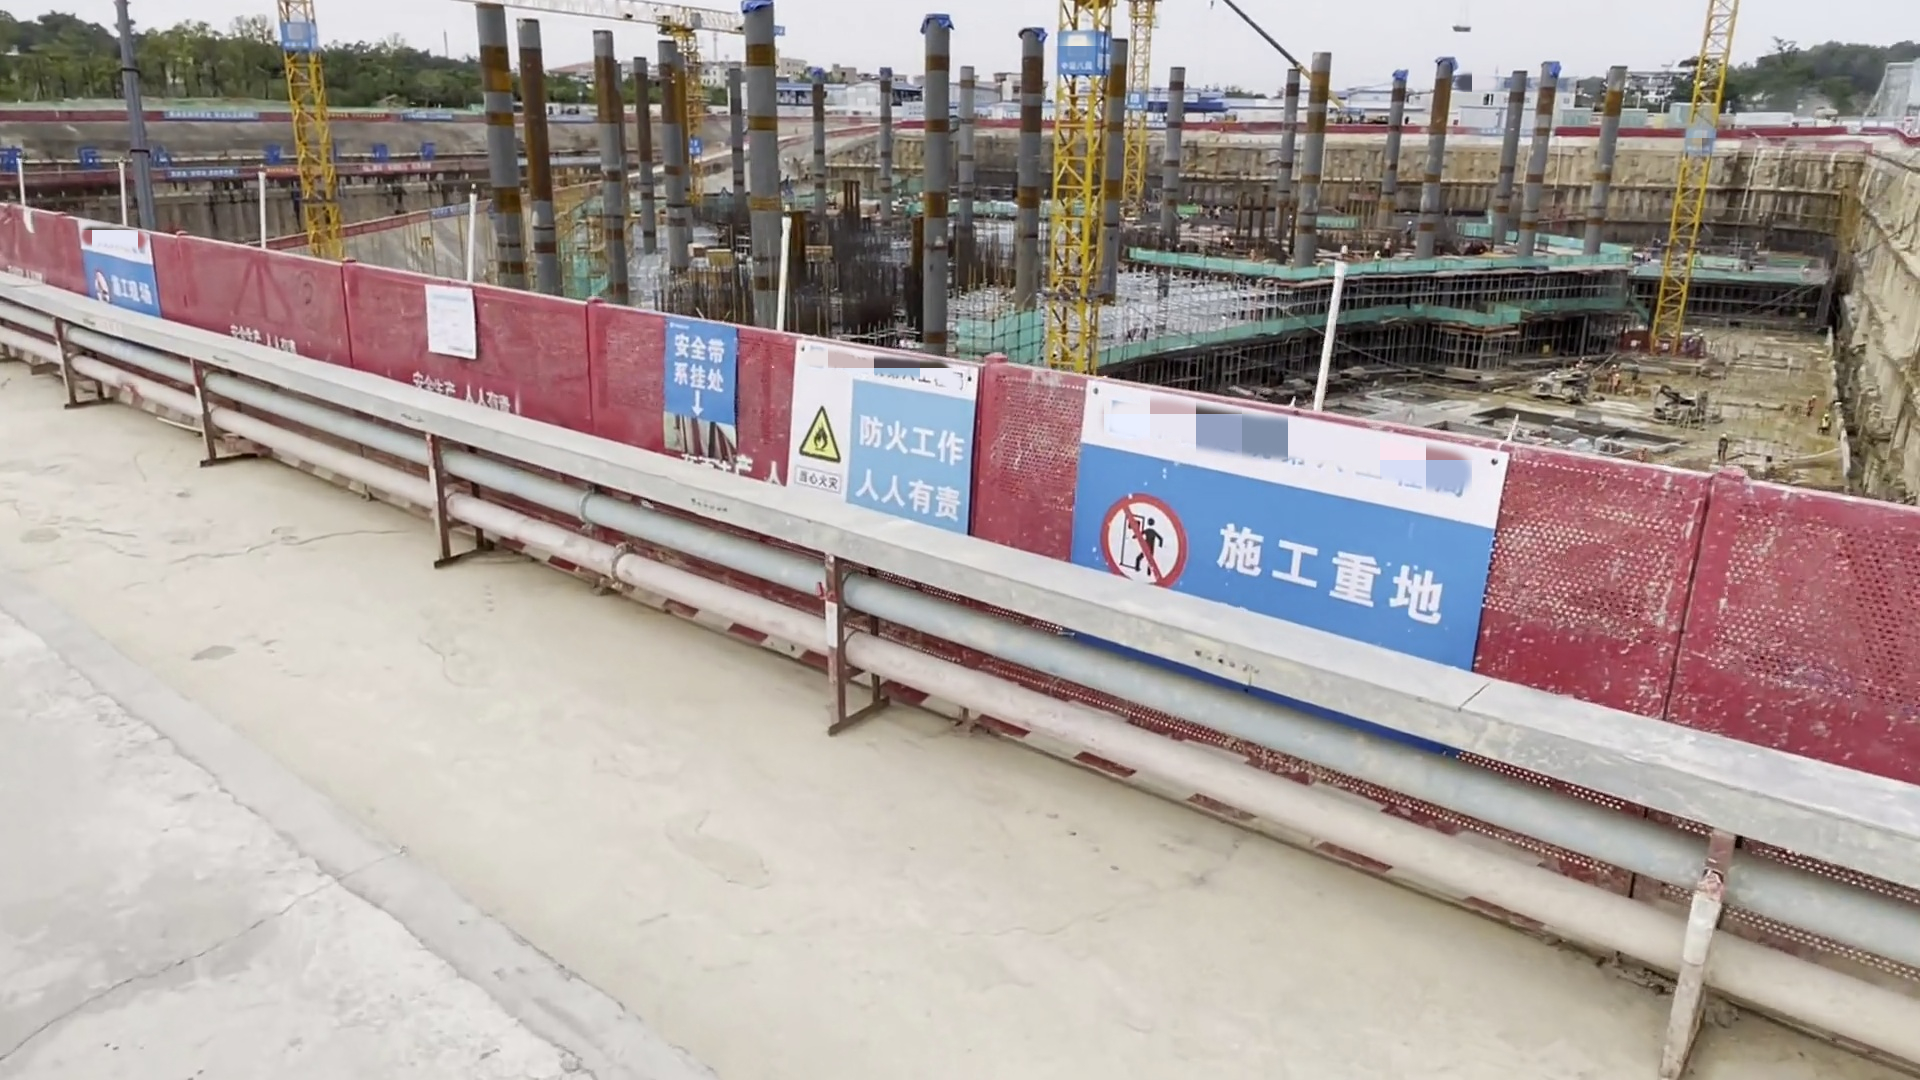fence: (1075, 379, 1920, 752), (590, 304, 1067, 584), (350, 258, 586, 429), (85, 219, 349, 368), (4, 206, 83, 288)
person: (1718, 434, 1728, 461), (1405, 219, 1415, 241), (1373, 250, 1382, 272), (1808, 395, 1816, 416), (1384, 234, 1391, 256), (1822, 415, 1830, 431), (1615, 375, 1621, 391), (1342, 243, 1349, 256)
slogan: (1076, 368, 1493, 676), (783, 336, 977, 529), (665, 315, 740, 434), (78, 230, 156, 318), (1056, 31, 1109, 71), (170, 165, 237, 186), (170, 112, 257, 124), (282, 23, 309, 51), (364, 163, 430, 173), (431, 205, 471, 218), (405, 112, 456, 121), (689, 137, 702, 157), (327, 114, 392, 118), (1128, 93, 1145, 108)
